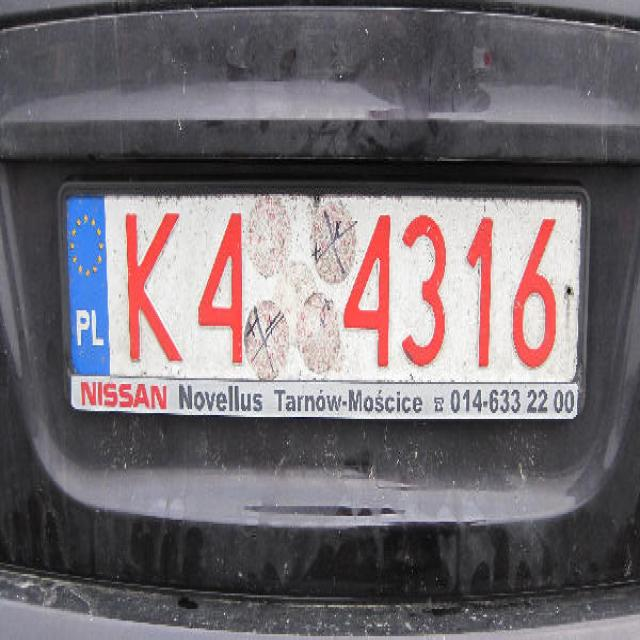pl_license_plate: (67, 196, 579, 378)
